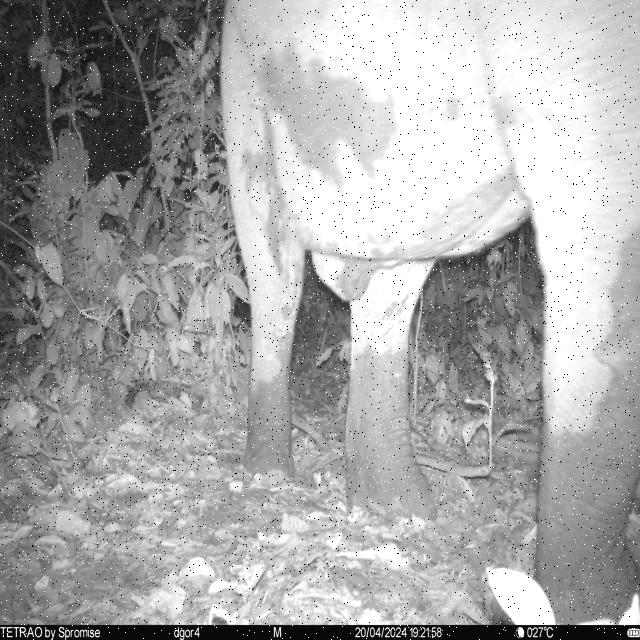elephant: (218, 0, 638, 622)
